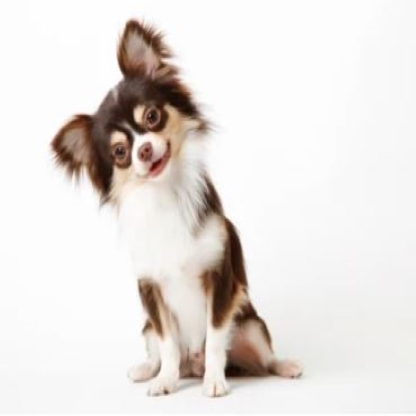chihuahua: (48, 17, 304, 398)
